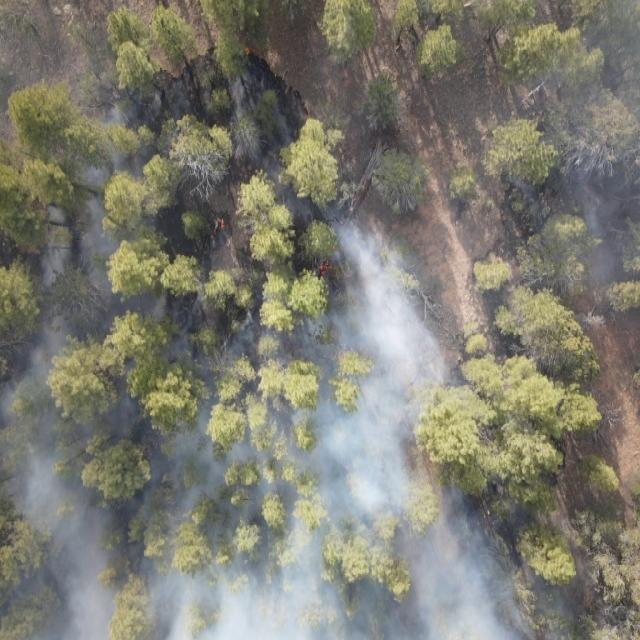fire: (208, 212, 229, 236), (317, 258, 336, 281), (336, 216, 352, 234), (350, 189, 362, 205), (242, 44, 252, 58)
smoke: (0, 67, 296, 640), (295, 184, 407, 640), (512, 0, 640, 315), (440, 474, 585, 640), (406, 385, 439, 640), (0, 0, 116, 68), (406, 254, 466, 385)
